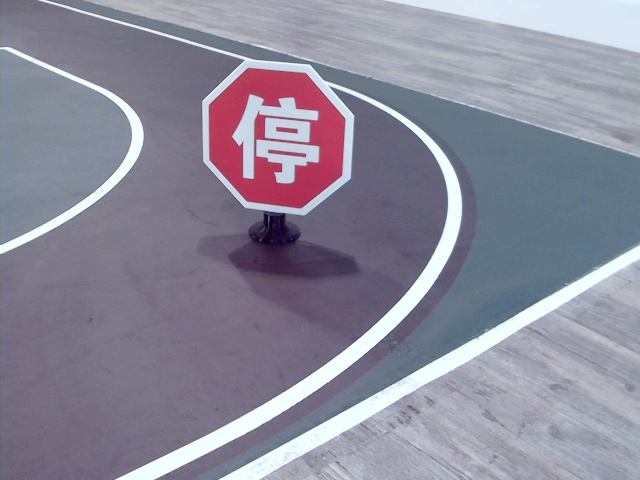stop: (233, 88, 319, 183)
